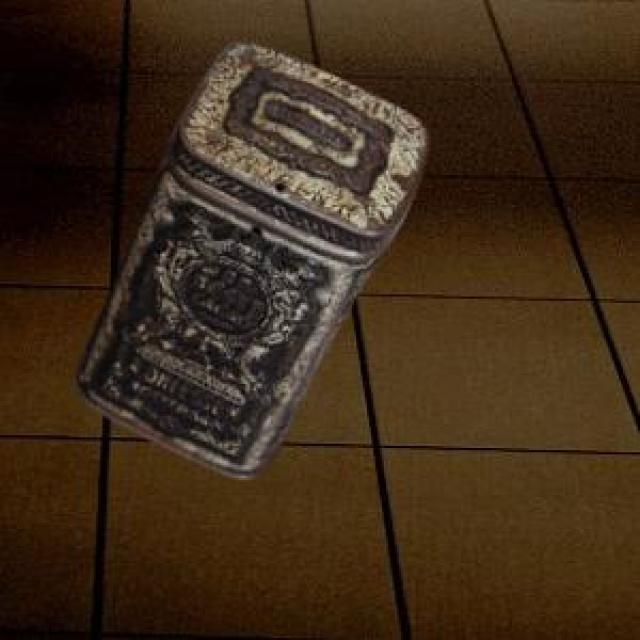Can: (71, 39, 426, 475)
